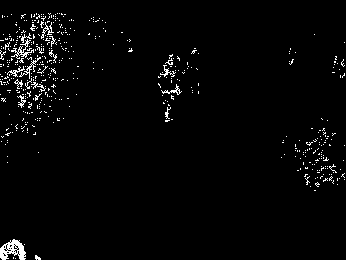person: (156, 63, 182, 121)
